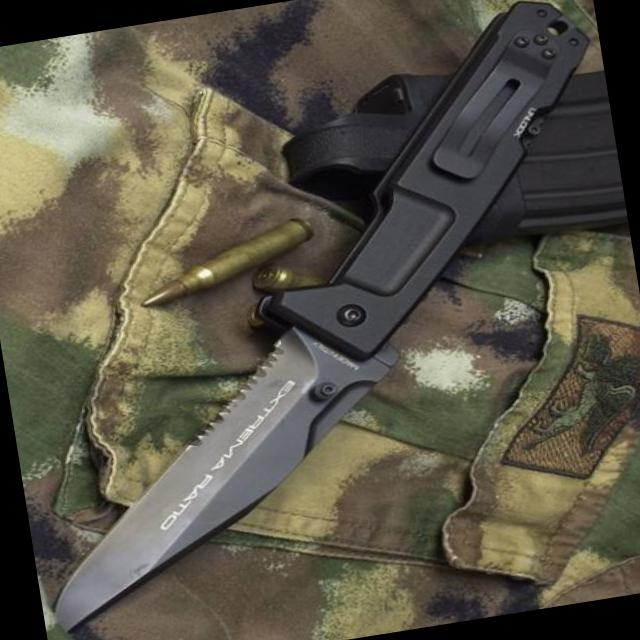knife: (8, 307, 436, 639)
